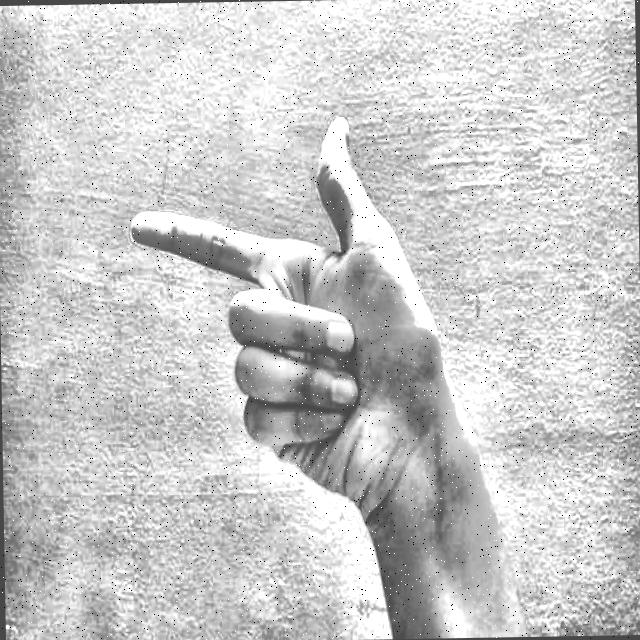Tho: (100, 78, 517, 544)
